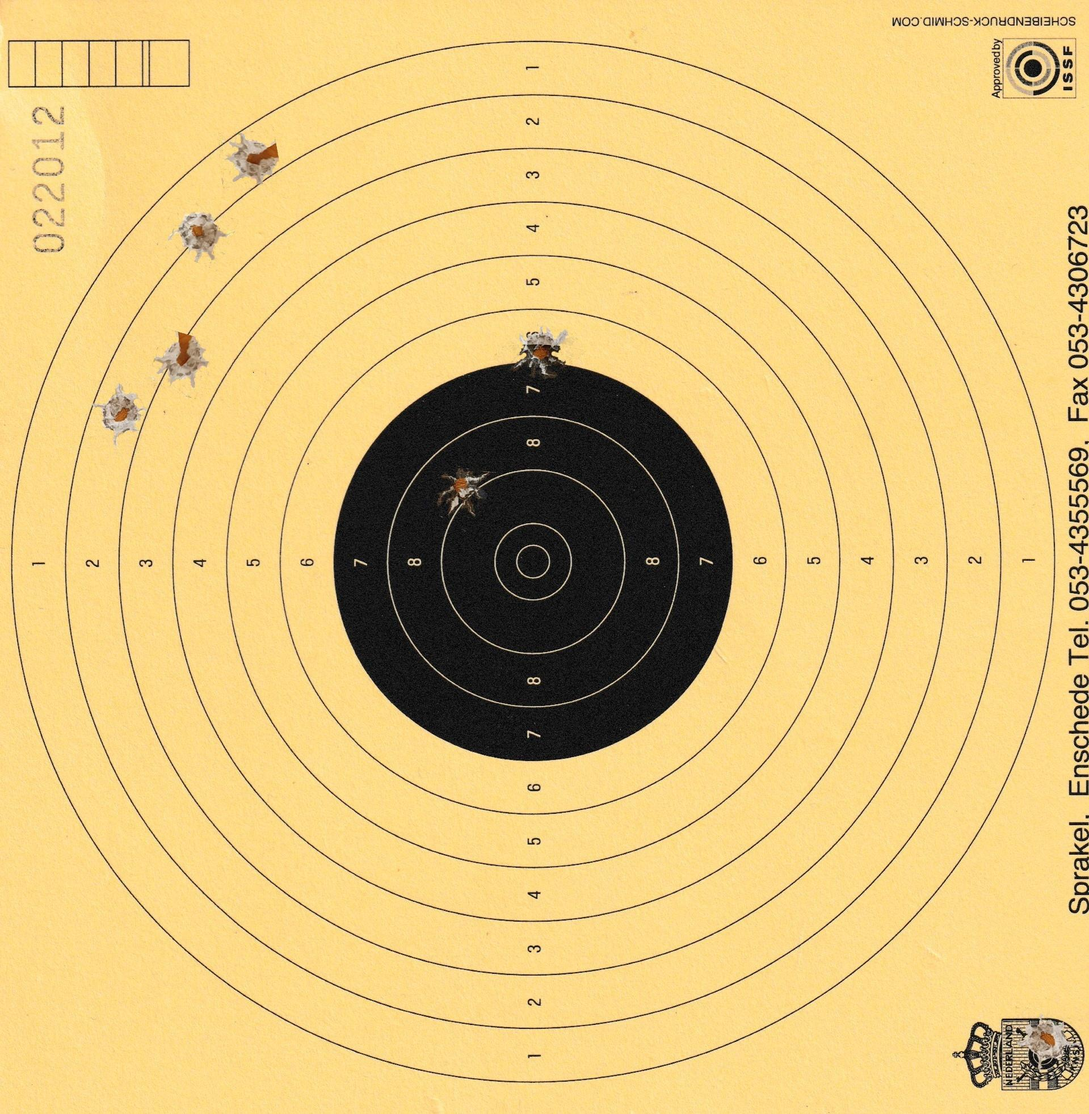hole: (221, 129, 286, 190), (1014, 1011, 1078, 1070), (92, 382, 148, 445), (153, 331, 211, 390), (513, 325, 572, 382), (169, 209, 229, 264), (435, 465, 494, 520)
